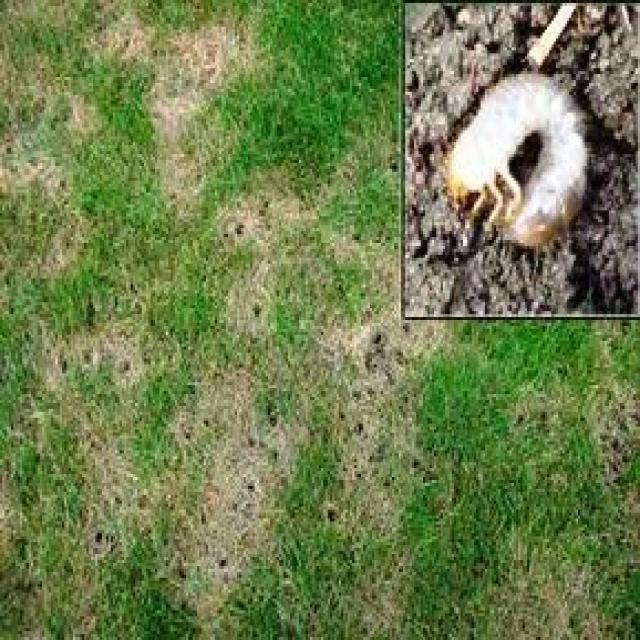Grub-Adult-: (448, 58, 596, 242)
